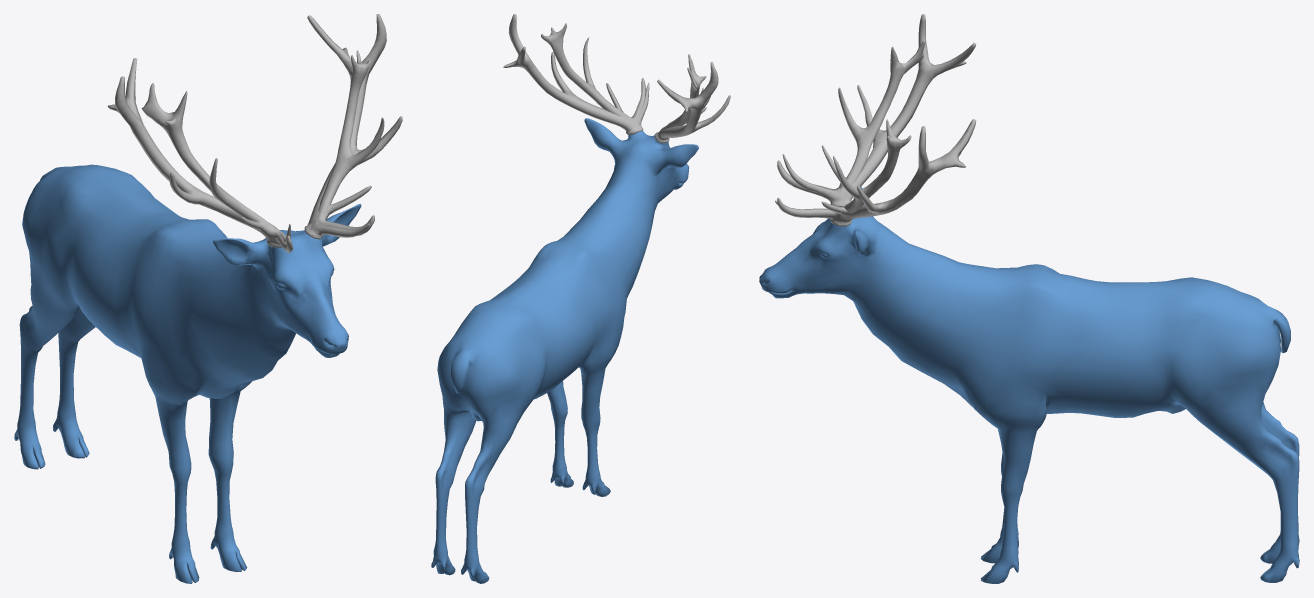
File: a_txt.fbx
3 views of the same model, side by side, from view 1: azimuth 30°, elevation 25°; view 2: azimuth 150°, elevation 25°; view 3: azimuth 270°, elevation 25° (orthographic). The views are drawn at different scales.
Parts seen in each view (by area): view 1: RedDeer, Antlers_2, Antlers_1; view 2: RedDeer, Antlers_2, Antlers_1; view 3: RedDeer, Antlers_2, Antlers_1.
Boxes of the visible parts, <box> form: RedDeer: <box>14,164,361,583</box>; Antlers_2: <box>107,14,402,252</box>; Antlers_1: <box>141,50,384,243</box>; RedDeer: <box>431,118,698,583</box>; Antlers_2: <box>503,14,730,143</box>; Antlers_1: <box>541,23,710,140</box>; RedDeer: <box>759,186,1299,583</box>; Antlers_2: <box>777,14,976,226</box>; Antlers_1: <box>775,40,925,226</box>.
Size of what is drawn, in the model's own units: 1.21 by 2.38 by 2.33.
